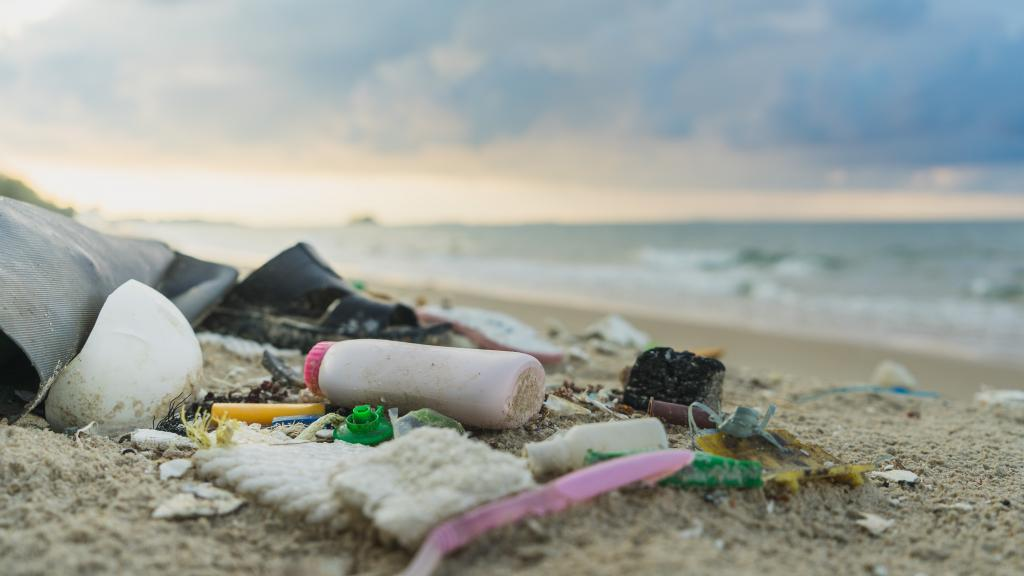litter: (364, 439, 720, 576), (16, 270, 252, 435), (285, 311, 595, 427), (611, 323, 741, 424)
